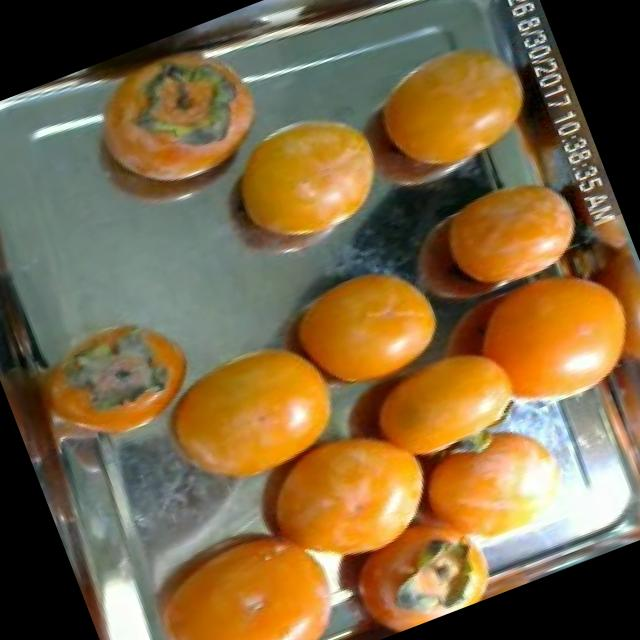Fruit: (126, 304, 372, 514), (182, 79, 419, 294), (346, 11, 562, 205), (250, 229, 470, 419), (19, 287, 219, 469), (406, 148, 606, 309)
